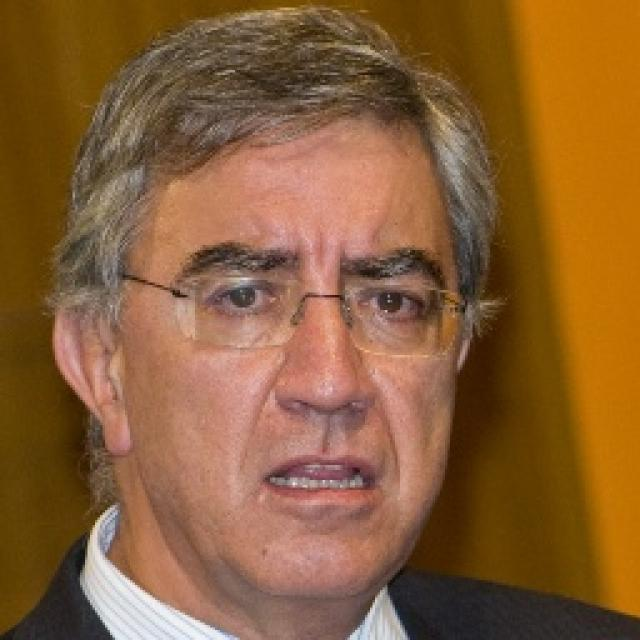earlobe: (52, 293, 136, 457)
